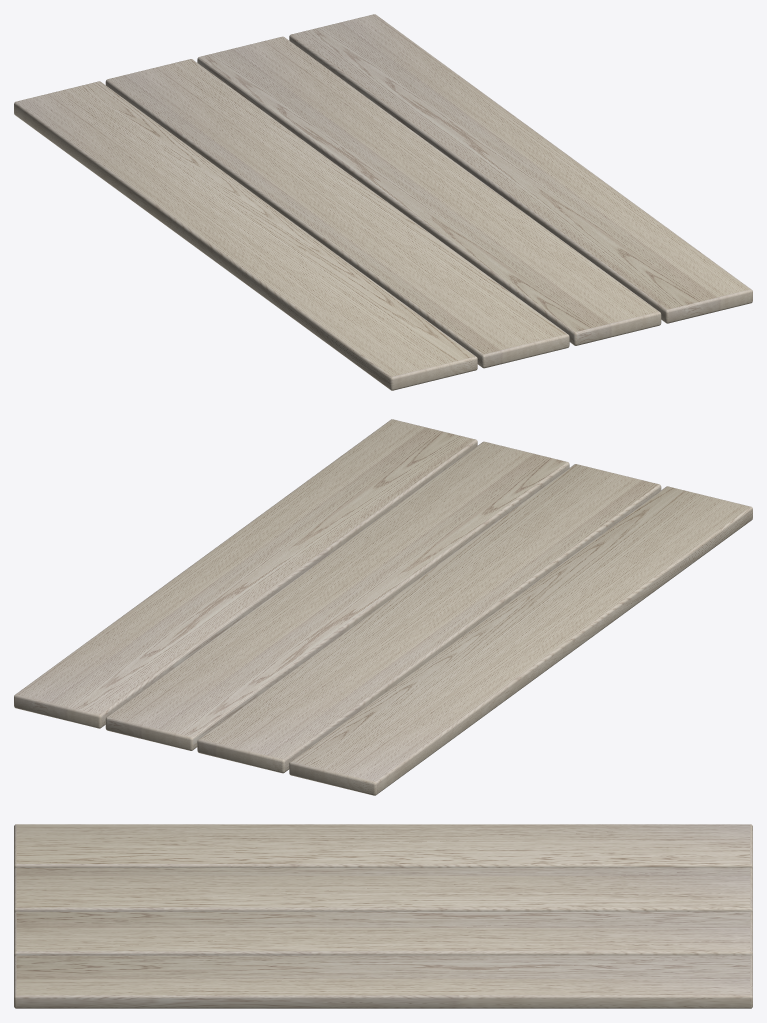
Rendered from BestTableForever.fbx.
3 views of the same model, one above another, from view 1: azimuth 30°, elevation 25°; view 2: azimuth 150°, elevation 25°; view 3: azimuth 270°, elevation 25° (orthographic). The views are drawn at different scales.
Visible parts, largest first — view 1: Cube, Cube_2, Cube_1, Cube_3; view 2: Cube, Cube_2, Cube_1, Cube_3; view 3: Cube_3, Cube_2, Cube_1, Cube.
Boxes of the visible parts, x1,y1,x2,y2 form: Cube: (14, 81, 477, 390); Cube_2: (197, 36, 661, 345); Cube_1: (105, 59, 569, 368); Cube_3: (289, 14, 752, 323); Cube: (289, 486, 752, 795); Cube_2: (105, 441, 569, 750); Cube_1: (197, 464, 661, 773); Cube_3: (14, 419, 477, 728); Cube_3: (14, 955, 752, 1008); Cube_2: (14, 911, 752, 956); Cube_1: (14, 868, 752, 913); Cube: (14, 824, 752, 869).
Bounding box in the file's own units: 83 × 4.97 × 150.
Materials: 5 (5 with a texture image).
